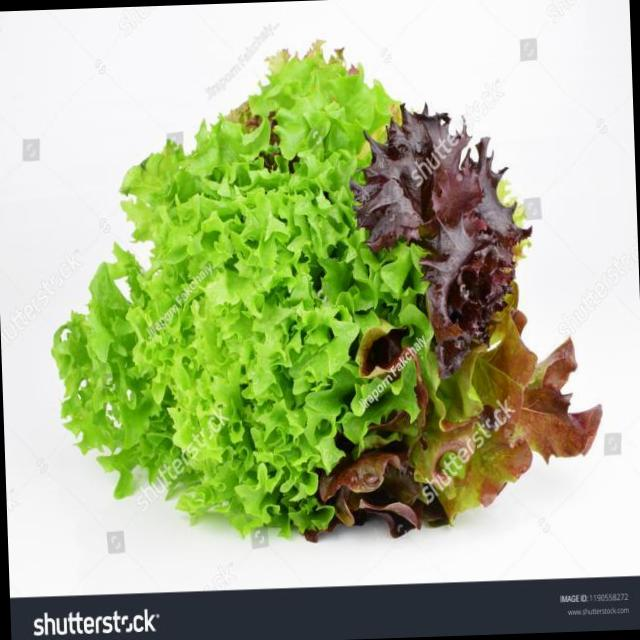Lettuce-Ready-to-Harvest: (53, 45, 601, 539)
